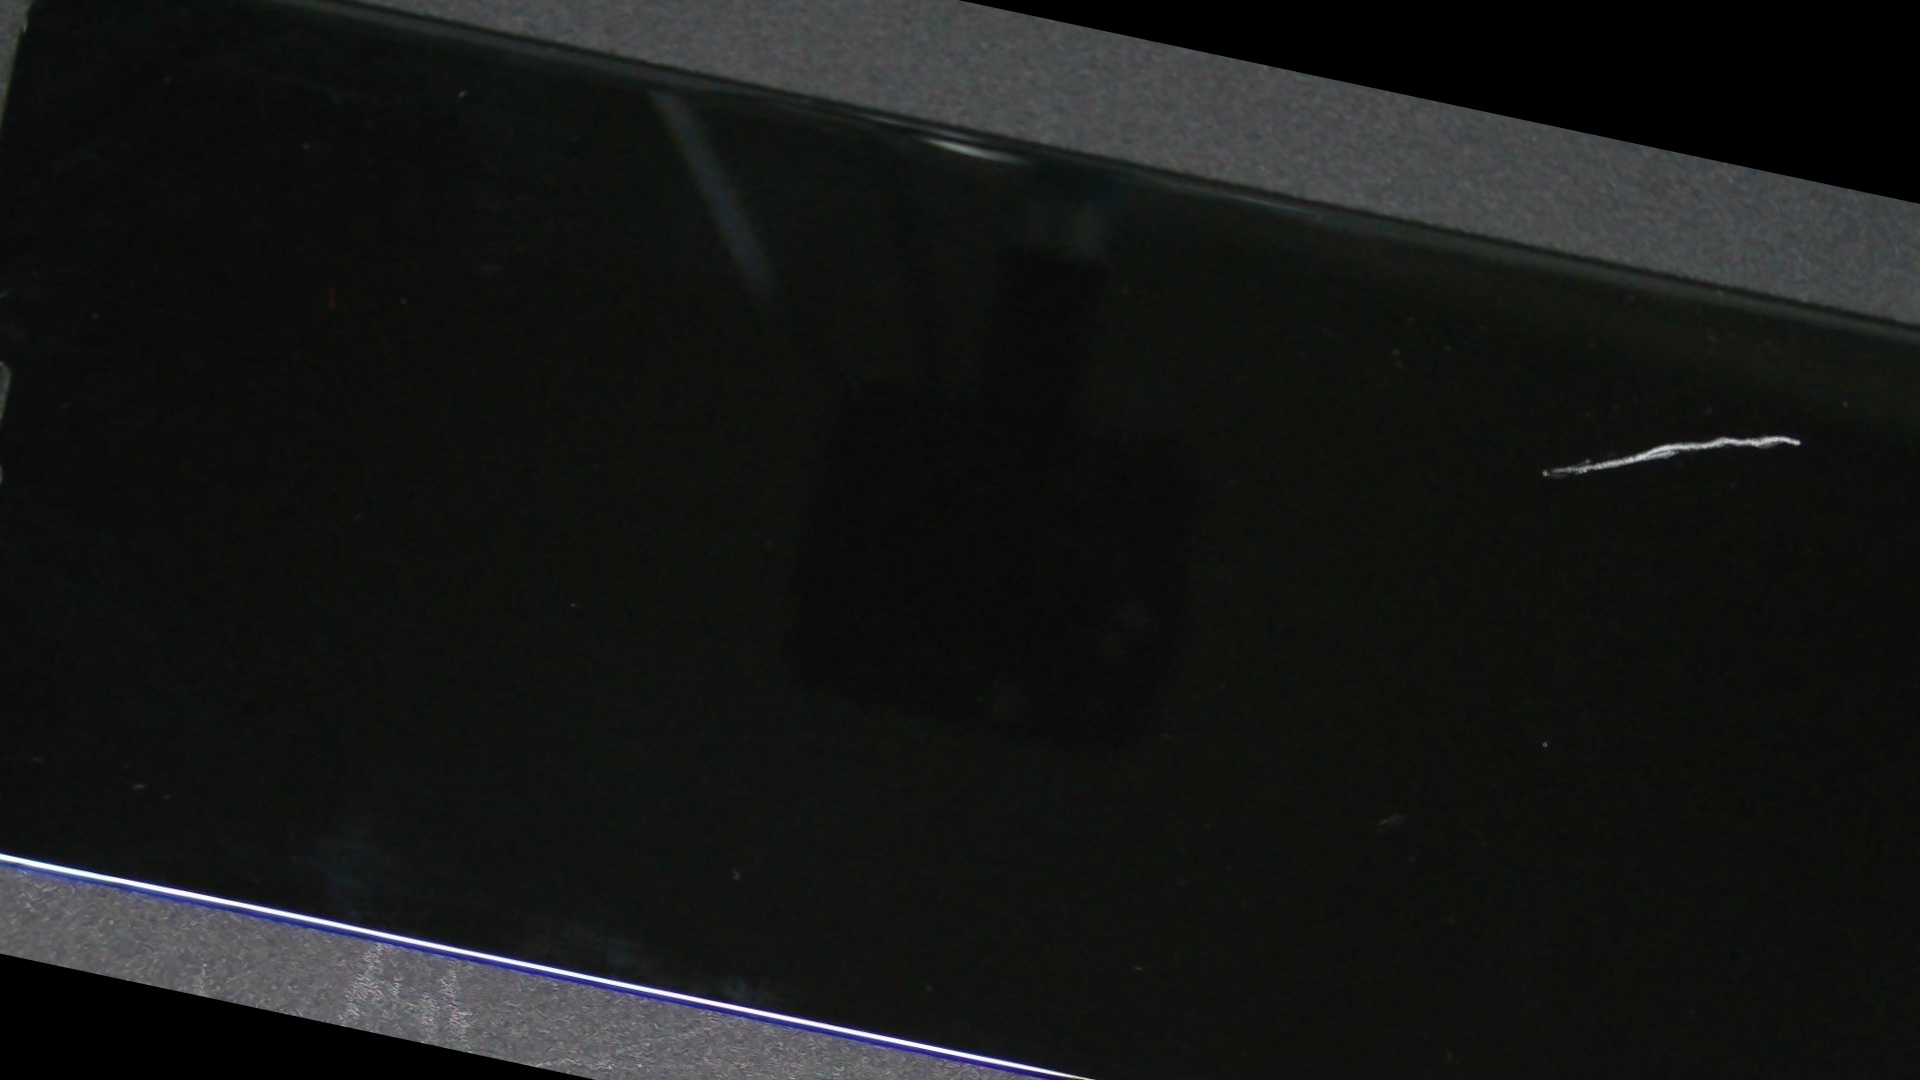oil: (849, 117, 1920, 645)
